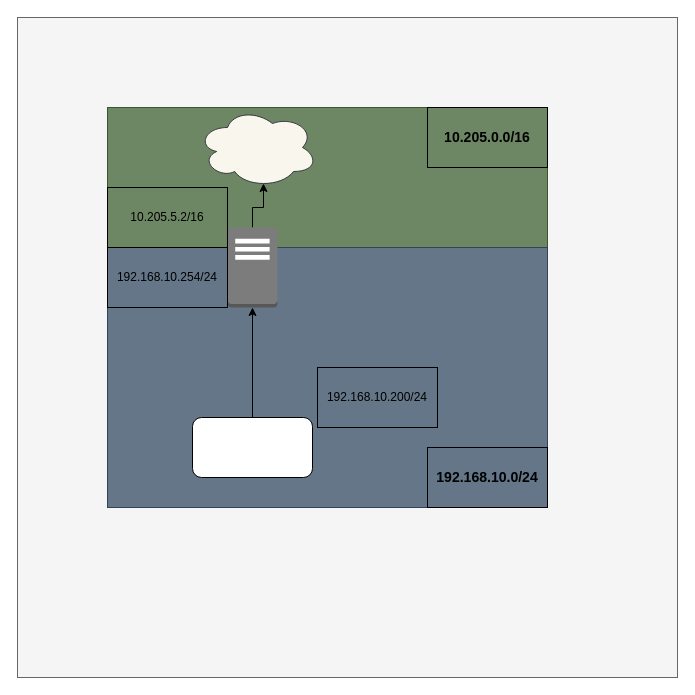
Some shapes in this 695 by 695 pixel diagram are drawn without their labels. The shapes that lost their labels are listed below. From the top down, each one's centre as x and y in pixels, then its label:
point 257,147: Internet
point 252,447: ESP32
